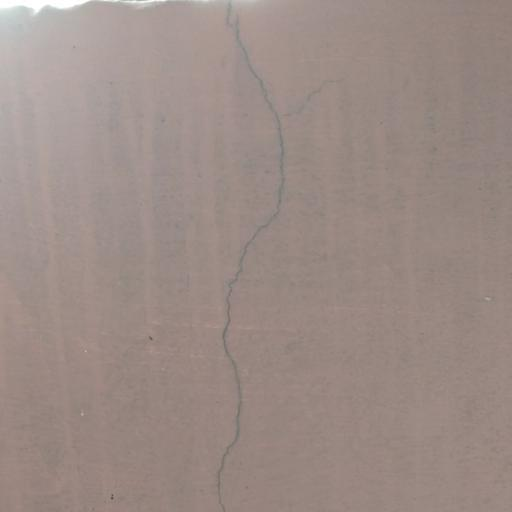minor_crack: (204, 4, 345, 512)
